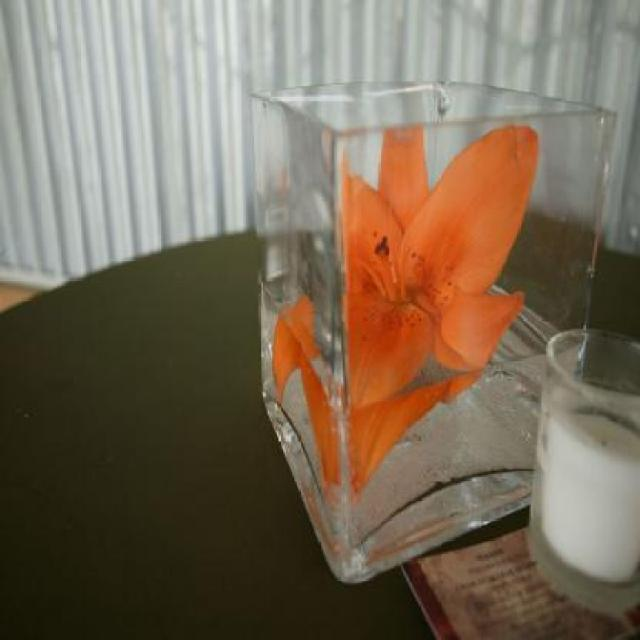Milk: (532, 328, 640, 614)
